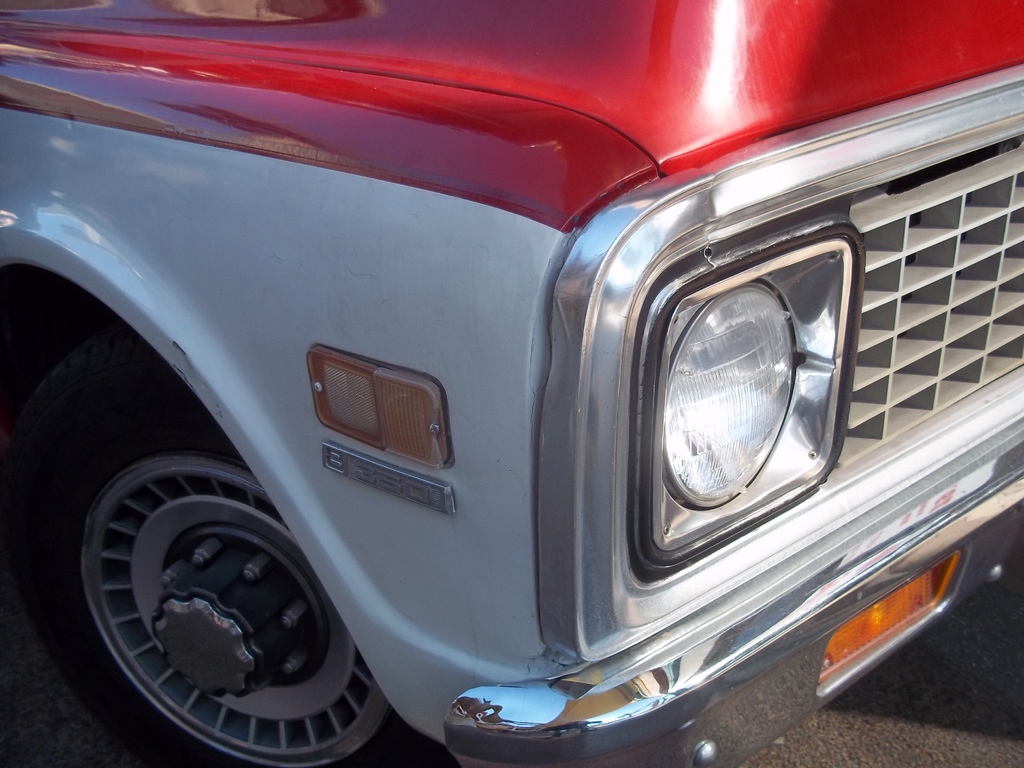Car: (0, 0, 974, 768)
